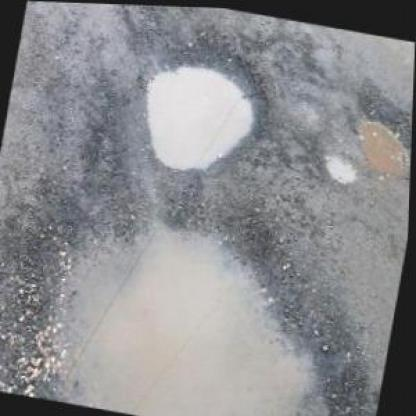pothole: (19, 165, 391, 415), (124, 31, 274, 183), (342, 89, 412, 183), (322, 144, 363, 186)
